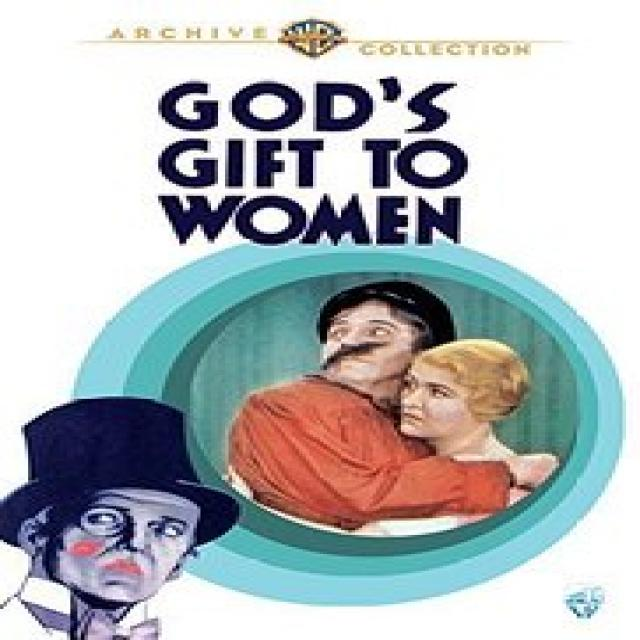movie-judul: (138, 67, 492, 249)
picture: (228, 273, 585, 526), (0, 398, 241, 626)
